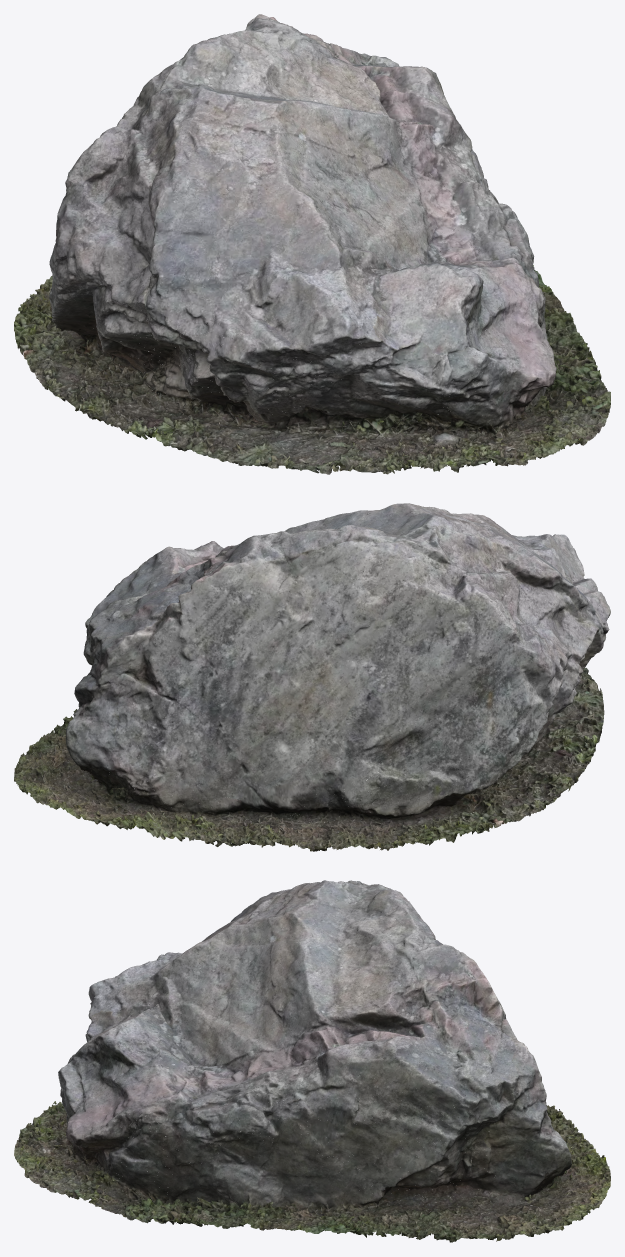
The model's file is rock_1_montebu (1).glb.
3 views of the same model, one above another, from view 1: azimuth 30°, elevation 25°; view 2: azimuth 150°, elevation 25°; view 3: azimuth 270°, elevation 25° (orthographic). The views are drawn at different scales.
Parts seen in each view (by area): view 1: sutr_bu1; view 2: sutr_bu1; view 3: sutr_bu1.
Boxes of the visible parts, left/top/right/bottom form: sutr_bu1: left=14, top=14, right=610, bottom=474; sutr_bu1: left=14, top=503, right=610, bottom=851; sutr_bu1: left=14, top=880, right=610, bottom=1242.
Bounding box in the file's own units: 1.36 × 0.7818 × 1.76.
1 material, 1 textured.
